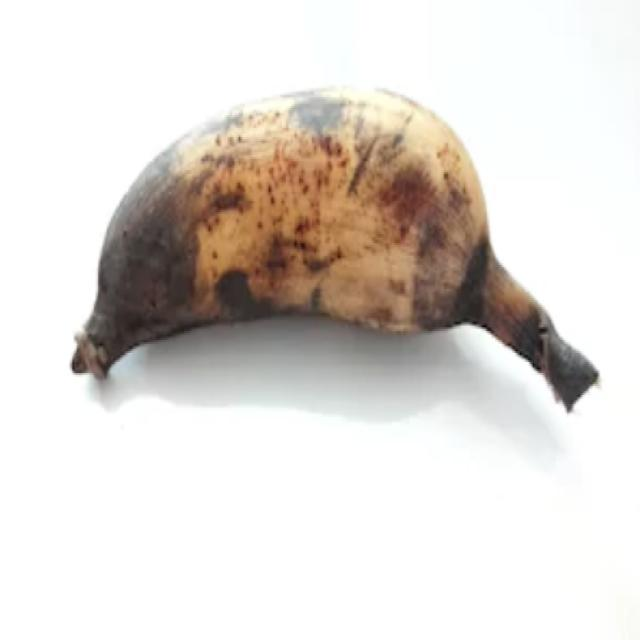rotten-banana: (69, 80, 600, 413)
